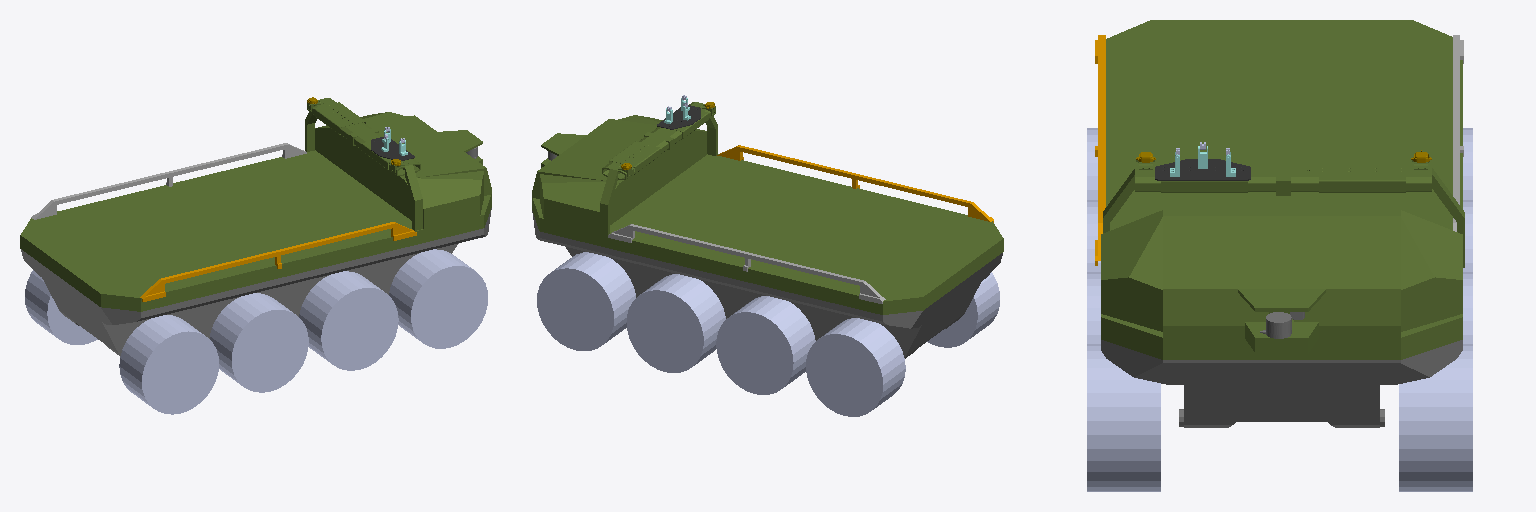
--- Render facts (derived) ---
3 views of the same robot in one strip: view 1: azimuth 30°, elevation 25°; view 2: azimuth 150°, elevation 25°; view 3: azimuth 270°, elevation 25° (orthographic).
Robot: argo — 38 links, 37 joints (8 continuous, 8 prismatic, 21 fixed); root link base_link; default pose: every joint at zero.
Links seen in each view (by area): view 1: J8_top, base_link, Wheel_1, Wheel_3, Wheel_2, Wheel_4, Right_bar, Wheel_5, Bridge, Left_bar; view 2: J8_top, base_link, Wheel_5, Wheel_8, Wheel_6, Wheel_7, Left_bar, Wheel_1, Bridge, Right_bar; view 3: J8_top, base_link, Wheel_4, Wheel_8, Bridge, Bridge_panel_1, Right_bar, Fixposion_base, Left_bar, Bridge_panel_3, Wheel_3, Bridge_panel_2 (+6 smaller).
Link boxes in pixels (box(x1,y1,x2,y2)): J8_top: box(20, 112, 491, 311); base_link: box(21, 208, 491, 355); Wheel_1: box(119, 315, 218, 414); Wheel_3: box(299, 271, 398, 370); Wheel_2: box(210, 293, 308, 392); Wheel_4: box(389, 249, 487, 348); Right_bar: box(140, 222, 416, 301); Wheel_5: box(25, 270, 97, 344); Bridge: box(305, 98, 422, 230); Left_bar: box(31, 143, 306, 219); J8_top: box(532, 115, 1003, 314); base_link: box(532, 211, 1002, 358); Wheel_5: box(806, 318, 905, 416); Wheel_8: box(537, 252, 635, 350); Wheel_6: box(716, 296, 815, 394); Wheel_7: box(626, 274, 725, 372); Left_bar: box(608, 224, 885, 303); Wheel_1: box(927, 272, 999, 347); Bridge: box(600, 102, 717, 234); Right_bar: box(717, 145, 993, 222); J8_top: box(1101, 20, 1462, 359); base_link: box(1101, 340, 1462, 427); Wheel_4: box(1087, 344, 1160, 491); Wheel_8: box(1399, 344, 1472, 491); Bridge: box(1103, 160, 1464, 267); Bridge_panel_1: box(1319, 171, 1405, 192); Right_bar: box(1095, 35, 1105, 265); Fixposion_base: box(1155, 159, 1250, 180); Left_bar: box(1453, 35, 1463, 231); Bridge_panel_3: box(1161, 181, 1247, 192); Wheel_3: box(1087, 272, 1100, 343); Bridge_panel_2: box(1319, 160, 1406, 169).
Size in the robot's own frame: 3.2 by 1.56 by 1.42 metres.
Meshes: 28 distinct files referenced, 23 mesh visuals loaded (21 binary STL); not drawn: 7 (reference not matched to a file when rendering).

robot.urdf — argo:
<?xml version="1.0" ?>
<!-- =================================================================================== -->
<!-- |    This document was autogenerated by xacro from argo_j8.urdf.xacro             | -->
<!-- |    EDITING THIS FILE BY HAND IS NOT RECOMMENDED                                 | -->
<!-- =================================================================================== -->
<robot name="argo">
  <!-- URDF for Argo Robot -->
  <!-- Automatically created by SolidWorks to URDF Exporter -->
  <!-- Exporter Version: 1.6.0-4-g7f85cfe, Build: 1.6.7995.38578 -->
  <!-- IMU sensor configuration for the upper case -->
  <gazebo reference="base_link">
    <sensor name="fixposition_poi_imu" type="imu">
      <always_on>true</always_on>
      <update_rate>200</update_rate>
      <plugin filename="libgazebo_ros_imu_sensor.so" name="fixposition_raw_imu_node">
        <ros>
          <namespace>/fixposition</namespace>
          <remapping>~/out:=raw_imu</remapping>
          <frame_name>FP_VRTK</frame_name>
        </ros>
        <initial_orientation_as_reference>false</initial_orientation_as_reference>
      </plugin>
    </sensor>
  </gazebo>
  <!-- IMU sensor configuration for the upper case -->
  <gazebo reference="base_link">
    <sensor name="fixposition_raw_imu" type="imu">
      <always_on>true</always_on>
      <update_rate>200</update_rate>
      <plugin filename="libgazebo_ros_imu_sensor.so" name="fixposition_poi_imu_node">
        <ros>
          <namespace>/fixposition</namespace>
          <remapping>~/out:=poiimu</remapping>
          <frame_name>FP_POI</frame_name>
        </ros>
        <initial_orientation_as_reference>false</initial_orientation_as_reference>
      </plugin>
    </sensor>
  </gazebo>
  <!--<xacro:include filename="$(find zed_camera_pkg)/urdf/camera_macro.urdf"/>-->
  <!-- Base Link -->
  <link name="base_link">
    <inertial>
      <origin rpy="0 0 0" xyz="-0.042688 0.0075201 0.060368"/>
      <mass value="1000.6"/>
      <inertia ixx="162.15" ixy="-2.4702E-05" ixz="-5.0479" iyy="867.35" iyz="-3.1093E-05" izz="5000.46"/>
    </inertial>
    <visual>
      <origin rpy="0 0 0" xyz="0 0 0"/>
      <geometry>
        <mesh filename="package://my_robot_description/meshes/base_link.STL"/>
      </geometry>
      <material name="">
        <color rgba="0.50196 0.50196 0.50196 1"/>
      </material>
    </visual>
    <collision>
      <origin rpy="0 0 0" xyz="0 0 0"/>
      <geometry>
        <mesh filename="package://my_robot_description/meshes/base_link.STL"/>
      </geometry>
    </collision>
  </link>
  <gazebo reference="base_link">
    <visual>
      <material>
        <ambient>0.3 0.3 0.3 1.0</ambient>
        <diffuse>0.3 0.3 0.3 1.0</diffuse>
        <specular>0.3 0.3 0.3 1.0</specular>
        <emissive>0 0 0 0</emissive>
      </material>
    </visual>
    <preserveFixedJoint>true</preserveFixedJoint>
    <!-- Also preserve joint if has a fixed joint -->
  </gazebo>
  <!-- Dark Grey -->
  <!-- J8 Top Link -->
  <link name="J8_top">
    <inertial>
      <origin rpy="0 0 0" xyz="0.36558 -4.2501E-17 0.10133"/>
      <mass value="639.03"/>
      <inertia ixx="110.75" ixy="3.1317E-14" ixz="-25.628" iyy="522.18" iyz="6.8087E-15" izz="2000.13"/>
    </inertial>
    <visual>
      <origin rpy="0 0 0" xyz="0 0 0"/>
      <geometry>
        <mesh filename="package://my_robot_description/meshes/J8_top.STL"/>
      </geometry>
      <material name="">
        <color rgba="0.4 0.48627 0.24314 1"/>
      </material>
    </visual>
    <collision>
      <origin rpy="0 0 0" xyz="0 0 0"/>
      <geometry>
        <mesh filename="package://my_robot_description/meshes/J8_top.STL"/>
      </geometry>
    </collision>
  </link>
  <gazebo reference="J8_top">
    <visual>
      <material>
        <ambient>0.2941 0.3255 0.1255 1.0</ambient>
        <diffuse>0.2941 0.3255 0.1255 1.0</diffuse>
        <specular>0.2941 0.3255 0.1255 1.0</specular>
        <emissive>0 0 0 0</emissive>
      </material>
    </visual>
    <preserveFixedJoint>true</preserveFixedJoint>
    <!-- Also preserve joint if has a fixed joint -->
  </gazebo>
  <!-- Military Green -->
  <!-- Joint Between Top and Base -->
  <joint name="Top_Base_joint" type="fixed">
    <origin rpy="0 0 0" xyz="-0.0093372 0.0075201 0.265"/>
    <parent link="base_link"/>
    <child link="J8_top"/>
    <axis xyz="0 0 0"/>
  </joint>
  <!-- Bridge Link -->
  <link name="Bridge">
    <inertial>
      <origin rpy="0 0 0" xyz="-4.4409E-16 0.0076101 0.13629"/>
      <mass value="7.6437"/>
      <inertia ixx="1.3715" ixy="4.0621E-14" ixz="-8.0678E-18" iyy="0.083158" iyz="-4.1934E-15" izz="1.3176"/>
    </inertial>
    <visual>
      <origin rpy="0 0 0" xyz="0 0 0"/>
      <geometry>
        <mesh filename="package://my_robot_description/meshes/Bridge.STL"/>
      </geometry>
      <material name="">
        <color rgba="0.4 0.48627 0.24314 1"/>
      </material>
    </visual>
    <collision>
      <origin rpy="0 0 0" xyz="0 0 0"/>
      <geometry>
        <mesh filename="package://my_robot_description/meshes/Bridge.STL"/>
      </geometry>
    </collision>
  </link>
  <gazebo reference="Bridge">
    <visual>
      <material>
        <ambient>0.2941 0.3255 0.1255 1.0</ambient>
        <diffuse>0.2941 0.3255 0.1255 1.0</diffuse>
        <specular>0.2941 0.3255 0.1255 1.0</specular>
        <emissive>0 0 0 0</emissive>
      </material>
    </visual>
    <preserveFixedJoint>true</preserveFixedJoint>
    <!-- Also preserve joint if has a fixed joint -->
  </gazebo>
  <!-- Military Green -->
  <!-- Joint Between Bridge and Top -->
  <joint name="Top_Bridge_joint" type="fixed">
    <origin rpy="0 0 0" xyz="0.82 0 0.31021"/>
    <parent link="J8_top"/>
    <child link="Bridge"/>
    <axis xyz="0 0 0"/>
  </joint>
  <link name="Bridge_panel_1">
    <inertial>
      <origin rpy="0 0 0" xyz="-0.2533 -0.13389 0.21171"/>
      <mass value="0.12712"/>
      <inertia ixx="0.0014232" ixy="-7.4618E-06" ixz="4.8219E-08" iyy="0.0014347" iyz="1.7036E-09" izz="0.00022938"/>
    </inertial>
    <visual>
      <origin rpy="0 0 0" xyz="0 0 0"/>
      <geometry>
        <mesh filename="package://my_robot_description/meshes/Bridge_panel_1.STL"/>
      </geometry>
      <material name="">
        <color rgba="0.4 0.48627 0.24314 1"/>
      </material>
    </visual>
    <collision>
      <origin rpy="0 0 0" xyz="0 0 0"/>
      <geometry>
        <mesh filename="package://my_robot_description/meshes/Bridge_panel_1.STL"/>
      </geometry>
    </collision>
  </link>
  <gazebo reference="Bridge_panel_1">
    <visual>
      <material>
        <ambient>0.2941 0.3255 0.1255 1.0</ambient>
        <diffuse>0.2941 0.3255 0.1255 1.0</diffuse>
        <specular>0.2941 0.3255 0.1255 1.0</specular>
        <emissive>0 0 0 0</emissive>
      </material>
    </visual>
    <preserveFixedJoint>true</preserveFixedJoint>
    <!-- Also preserve joint if has a fixed joint -->
  </gazebo>
  <!-- Military Green -->
  <joint name="Bridge_panel_1_joint" type="fixed">
    <origin rpy="1.5708 0 0" xyz="0.2533 0.14912 0.21171"/>
    <parent link="Bridge"/>
    <child link="Bridge_panel_1"/>
    <axis xyz="0 0 0"/>
  </joint>
  <link name="Bridge_panel_2">
    <inertial>
      <origin rpy="0 0 0" xyz="-0.2533 -0.13389 0.21171"/>
      <mass value="0.12712"/>
      <inertia ixx="0.0014232" ixy="-7.4618E-06" ixz="4.8219E-08" iyy="0.0014347" iyz="1.7036E-09" izz="0.00022938"/>
    </inertial>
    <visual>
      <origin rpy="0 0 0" xyz="0 0 0"/>
      <geometry>
        <mesh filename="package://my_robot_description/meshes/Bridge_panel_2.STL"/>
      </geometry>
      <material name="">
        <color rgba="0.4 0.48627 0.24314 1"/>
      </material>
    </visual>
    <collision>
      <origin rpy="0 0 0" xyz="0 0 0"/>
      <geometry>
        <mesh filename="package://my_robot_description/meshes/Bridge_panel_2.STL"/>
      </geometry>
    </collision>
  </link>
  <gazebo reference="Bridge_panel_2">
    <visual>
      <material>
        <ambient>0.2941 0.3255 0.1255 1.0</ambient>
        <diffuse>0.2941 0.3255 0.1255 1.0</diffuse>
        <specular>0.2941 0.3255 0.1255 1.0</specular>
        <emissive>0 0 0 0</emissive>
      </material>
    </visual>
    <preserveFixedJoint>true</preserveFixedJoint>
    <!-- Also preserve joint if has a fixed joint -->
  </gazebo>
  <!-- Military Green -->
  <joint name="Bridge_panel_2_joint" type="fixed">
    <origin rpy="1.5708 0 -3.1416" xyz="-0.2533 0.15172 0.21171"/>
    <parent link="Bridge"/>
    <child link="Bridge_panel_2"/>
    <axis xyz="0 0 0"/>
  </joint>
  <link name="Bridge_panel_3">
    <inertial>
      <origin rpy="0 0 0" xyz="-0.2533 -0.13389 0.21171"/>
      <mass value="0.12712"/>
      <inertia ixx="0.0014232" ixy="-7.4618E-06" ixz="4.8219E-08" iyy="0.0014347" iyz="1.7036E-09" izz="0.00022938"/>
    </inertial>
    <visual>
      <origin rpy="0 0 0" xyz="0 0 0"/>
      <geometry>
        <mesh filename="package://my_robot_description/meshes/Bridge_panel_3.STL"/>
      </geometry>
      <material name="">
        <color rgba="0.4 0.48627 0.24314 1"/>
      </material>
    </visual>
    <collision>
      <origin rpy="0 0 0" xyz="0 0 0"/>
      <geometry>
        <mesh filename="package://my_robot_description/meshes/Bridge_panel_3.STL"/>
      </geometry>
    </collision>
  </link>
  <gazebo reference="Bridge_panel_3">
    <visual>
      <material>
        <ambient>0.2941 0.3255 0.1255 1.0</ambient>
        <diffuse>0.2941 0.3255 0.1255 1.0</diffuse>
        <specular>0.2941 0.3255 0.1255 1.0</specular>
        <emissive>0 0 0 0</emissive>
      </material>
    </visual>
    <preserveFixedJoint>true</preserveFixedJoint>
    <!-- Also preserve joint if has a fixed joint -->
  </gazebo>
  <!-- Military Green -->
  <joint name="Bridge_panel_3_joint" type="fixed">
    <origin rpy="1.5708 0 0" xyz="0.2533 -0.1365 0.21171"/>
    <parent link="Bridge"/>
    <child link="Bridge_panel_3"/>
    <axis xyz="0 0 0"/>
  </joint>
  <link name="Bridge_panel_4">
    <inertial>
      <origin rpy="0 0 0" xyz="-0.2533 -0.13389 0.21171"/>
      <mass value="0.12712"/>
      <inertia ixx="0.0014232" ixy="-7.4618E-06" ixz="4.8219E-08" iyy="0.0014347" iyz="1.7036E-09" izz="0.00022938"/>
    </inertial>
    <visual>
      <origin rpy="0 0 0" xyz="0 0 0"/>
      <geometry>
        <mesh filename="package://my_robot_description/meshes/Bridge_panel_4.STL"/>
      </geometry>
      <material name="">
        <color rgba="0.4 0.48627 0.24314 1"/>
      </material>
    </visual>
    <collision>
      <origin rpy="0 0 0" xyz="0 0 0"/>
      <geometry>
        <mesh filename="package://my_robot_description/meshes/Bridge_panel_4.STL"/>
      </geometry>
    </collision>
  </link>
  <gazebo reference="Bridge_panel_4">
    <visual>
      <material>
        <ambient>0.2941 0.3255 0.1255 1.0</ambient>
        <diffuse>0.2941 0.3255 0.1255 1.0</diffuse>
        <specular>0.2941 0.3255 0.1255 1.0</specular>
        <emissive>0 0 0 0</emissive>
      </material>
    </visual>
    <preserveFixedJoint>true</preserveFixedJoint>
    <!-- Also preserve joint if has a fixed joint -->
  </gazebo>
  <!-- Military Green -->
  <joint name="Bridge_panel_4_joint" type="fixed">
    <origin rpy="1.5708 0 -3.1416" xyz="-0.2533 -0.13389 0.21171"/>
    <parent link="Bridge"/>
    <child link="Bridge_panel_4"/>
    <axis xyz="0 0 0"/>
  </joint>
  <link name="Left_bar">
    <inertial>
      <origin rpy="0 0 0" xyz="0.45 0.073187 0.020151"/>
      <mass value="2.4389"/>
      <inertia ixx="0.002886" ixy="0" ixz="0" iyy="1.1032" iyz="-0.00029921" izz="1.1009"/>
    </inertial>
    <visual>
      <origin rpy="0 0 0" xyz="0 0 0"/>
      <geometry>
        <mesh filename="package://my_robot_description/meshes/Left_bar.STL"/>
      </geometry>
      <!-- The color is defined in the main file or through a gazebo tag -->
    </visual>
    <collision>
      <origin rpy="0 0 0" xyz="0 0 0"/>
      <geometry>
        <mesh filename="package://my_robot_description/meshes/Left_bar.STL"/>
      </geometry>
    </collision>
  </link>
  <gazebo reference="Left_bar">
    <visual>
      <material>
        <ambient>0.2941 0.3255 0.1255 1.0</ambient>
        <diffuse>0.2941 0.3255 0.1255 1.0</diffuse>
        <specular>0.2941 0.3255 0.1255 1.0</specular>
        <emissive>0 0 0 0</emissive>
      </material>
    </visual>
    <preserveFixedJoint>true</preserveFixedJoint>
    <!-- Also preserve joint if has a fixed joint -->
  </gazebo>
  <!-- Military Green -->
  <joint name="Left_bar_joint" type="fixed">
    <origin rpy="3.1416 0 0" xyz="-0.7165 0.7825 0.185"/>
    <parent link="J8_top"/>
    <child link="Left_bar"/>
    <axis xyz="0 0 0"/>
  </joint>
  <link name="Right_bar">
    <inertial>
      <origin rpy="0 0 0" xyz="0.45 0.073187 0.020151"/>
      <mass value="2.4389"/>
      <inertia ixx="0.002886" ixy="0" ixz="0" iyy="1.1032" iyz="-0.00029921" izz="1.1009"/>
    </inertial>
    <visual>
      <origin rpy="0 0 0" xyz="0 0 0"/>
      <geometry>
        <mesh filename="package://my_robot_description/meshes/Right_bar.STL"/>
      </geometry>
      <!-- The color is defined in the main file or through a gazebo tag -->
    </visual>
    <collision>
      <origin rpy="0 0 0" xyz="0 0 0"/>
      <geometry>
        <mesh filename="package://my_robot_description/meshes/Right_bar.STL"/>
      </geometry>
    </collision>
  </link>
  <gazebo reference="Right_bar">
    <visual>
      <material>
        <ambient>0.2941 0.3255 0.1255 1.0</ambient>
        <diffuse>0.2941 0.3255 0.1255 1.0</diffuse>
        <specular>0.2941 0.3255 0.1255 1.0</specular>
        <emissive>0 0 0 0</emissive>
      </material>
    </visual>
    <preserveFixedJoint>true</preserveFixedJoint>
    <!-- Also preserve joint if has a fixed joint -->
  </gazebo>
  <!-- Military Green -->
  <joint name="Right_bar_joint" type="fixed">
    <origin rpy="3.1416 0 0" xyz="-0.7165 -0.7125 0.185"/>
    <parent link="J8_top"/>
    <child link="Right_bar"/>
    <axis xyz="0 0 0"/>
  </joint>
  <link name="Left_gps_holder">
    <inertial>
      <origin rpy="0 0 0" xyz="0.028467 0.0040708 0.064445"/>
      <mass value="0.085883"/>
      <inertia ixx="4.8874E-05" ixy="1.086E-09" ixz="1.7125E-08" iyy="6.5272E-05" iyz="-6.869E-06" izz="3.5166E-05"/>
    </inertial>
    <visual>
      <origin rpy="0 0 0" xyz="0 0 0"/>
      <geometry>
        <mesh filename="package://my_robot_description/meshes/Right_gps_holder.STL"/>
      </geometry>
      <material name="">
        <color rgba="0.4 0.48627 0.24314 1"/>
      </material>
    </visual>
    <collision>
      <origin rpy="0 0 0" xyz="0 0 0"/>
      <geometry>
        <mesh filename="package://my_robot_description/meshes/Right_gps_holder.STL"/>
      </geometry>
    </collision>
  </link>
  <gazebo reference="Left_gps_holder">
    <visual>
      <material>
        <ambient>0.2941 0.3255 0.1255 1.0</ambient>
        <diffuse>0.2941 0.3255 0.1255 1.0</diffuse>
        <specular>0.2941 0.3255 0.1255 1.0</specular>
        <emissive>0 0 0 0</emissive>
      </material>
    </visual>
    <preserveFixedJoint>true</preserveFixedJoint>
    <!-- Also preserve joint if has a fixed joint -->
  </gazebo>
  <!-- Military Green -->
  <joint name="Left_gps_holder_joint" type="fixed">
    <origin rpy="1.5708 0 1.5708" xyz="-0.007 0.601 0.21421"/>
    <parent link="Bridge"/>
    <child link="Left_gps_holder"/>
    <axis xyz="0 0 0"/>
  </joint>
  <link name="Right_gps_holder">
    <inertial>
      <origin rpy="0 0 0" xyz="0.028467 0.0040708 0.064445"/>
      <mass value="0.085883"/>
      <inertia ixx="4.8874E-05" ixy="1.086E-09" ixz="1.7125E-08" iyy="6.5272E-05" iyz="-6.869E-06" izz="3.5166E-05"/>
    </inertial>
    <visual>
      <origin rpy="0 0 0" xyz="0 0 0"/>
      <geometry>
        <mesh filename="package://my_robot_description/meshes/Right_gps_holder.STL"/>
      </geometry>
      <material name="">
        <color rgba="0.4 0.48627 0.24314 1"/>
      </material>
    </visual>
    <collision>
      <origin rpy="0 0 0" xyz="0 0 0"/>
      <geometry>
        <mesh filename="package://my_robot_description/meshes/Right_gps_holder.STL"/>
      </geometry>
    </collision>
  </link>
  <gazebo reference="Right_gps_holder">
    <visual>
      <material>
        <ambient>0.2941 0.3255 0.1255 1.0</ambient>
        <diffuse>0.2941 0.3255 0.1255 1.0</diffuse>
        <specular>0.2941 0.3255 0.1255 1.0</specular>
        <emissive>0 0 0 0</emissive>
      </material>
    </visual>
    <preserveFixedJoint>true</preserveFixedJoint>
    <!-- Also preserve joint if has a fixed joint -->
  </gazebo>
  <!-- Military Green -->
  <joint name="Right_gps_holder_joint" type="fixed">
    <origin rpy="1.5708 0 1.5708" xyz="-0.007 -0.51339 0.21421"/>
    <parent link="Bridge"/>
    <child link="Right_gps_holder"/>
    <axis xyz="0 0 0"/>
  </joint>
  <link name="Left_gps">
    <inertial>
      <origin rpy="0 0 0" xyz="0.0001309 0.0375 0.010255"/>
      <mass value="0.07021"/>
      <inertia ixx="2.1784E-05" ixy="2.6915E-11" ixz="-1.5698E-09" iyy="2.0279E-05" iyz="5.606E-12" izz="3.6479E-05"/>
    </inertial>
    <visual>
      <origin rpy="0 0 0" xyz="0 0 0"/>
      <geometry>
        <mesh filename="package://my_robot_description/meshes/Left_gps.STL"/>
      </geometry>
      <material name="">
        <color rgba="0.64706 0.51373 0 1"/>
      </material>
    </visual>
    <collision>
      <origin rpy="0 0 0" xyz="0 0 0"/>
      <geometry>
        <mesh filename="package://my_robot_description/meshes/Left_gps.STL"/>
      </geometry>
    </collision>
  </link>
  <joint name="Left_gps_joint" type="fixed">
    <origin rpy="1.5708 1.5708 3.141592653589793" xyz="-0.066 0.012 -0.066"/>
    <parent link="Left_gps_holder"/>
    <child link="Left_gps"/>
    <axis xyz="0 0 0"/>
  </joint>
  <link name="Right_gps">
    <inertial>
      <origin rpy="0 0 0" xyz="0.0001309 0.0375 0.010255"/>
      <mass value="0.07021"/>
      <inertia ixx="2.1784E-05" ixy="2.6915E-11" ixz="-1.5698E-09" iyy="2.0279E-05" iyz="5.606E-12" izz="3.6479E-05"/>
    </inertial>
    <visual>
      <origin rpy="0 0 0" xyz="0 0 0"/>
      <geometry>
        <mesh filename="package://my_robot_description/meshes/Left_gps.STL"/>
      </geometry>
      <material name="">
        <color rgba="0.64706 0.51373 0 1"/>
      </material>
    </visual>
    <collision>
      <origin rpy="0 0 0" xyz="0 0 0"/>
      <geometry>
        <mesh filename="package://my_robot_description/meshes/Left_gps.STL"/>
      </geometry>
    </collision>
  </link>
  <joint name="Right_gps_joint" type="fixed">
    <origin rpy="1.5708 1.5708 3.141592653589793" xyz="-0.066 0.012 -0.066"/>
    <parent link="Right_gps_holder"/>
    <child link="Right_gps"/>
    <axis xyz="0 0 0"/>
  </joint>
  <link name="Velodyne_link">
    <inertial>
      <origin rpy="0 0 0" xyz="1.6279 -0.0022244 0.17"/>
      <mass value="0.61592"/>
      <inertia ixx="0.00069055" ixy="0" ixz="0" iyy="0.0006838" iyz="0" izz="0.00083911"/>
    </inertial>
    <visual>
      <origin rpy="0 0 0" xyz="0 0 0"/>
      <geometry>
        <mesh filename="package://my_robot_description/meshes/Velodyne.STL"/>
      </geometry>
      <!-- Default color for all lidars -->
      <material name="">
        <color rgba="0.5 0.5 0.5 1"/>
      </material>
    </visual>
    <collision>
      <origin rpy="0 0 0" xyz="0 0 0"/>
      <geometry>
        <mesh filename="package://my_robot_description/meshes/Velodyne.STL"/>
      </geometry>
    </collision>
  </link>
  <joint name="Velodyne_joint" type="fixed">
    <origin rpy="0 0 0" xyz="1.6279 -0.0022244 0.17"/>
    <parent link="J8_top"/>
    <child link="Velodyne_link"/>
    <axis xyz="0 0 0"/>
  </joint>
  <gazebo reference="Velodyne_link">
    <visual>
      <material>
        <ambient>0.8 0.8 0.8 1.0</ambient>
        <diffuse>0.8 0.8 0.8 1.0</diffuse>
        <specular>0.8 0.8 0.8 1.0</specular>
        <emissive>0 0 0 0</emissive>
      </material>
    </visual>
    <preserveFixedJoint>true</preserveFixedJoint>
    <!-- Also preserve joint if has a fixed joint -->
  </gazebo>
  <!-- Light Grey -->
  <link name="Sick_link">
    <inertial>
      <origin rpy="0 0 0" xyz="1.50 0.02 0.27732"/>
      <mass value="0.22144"/>
      <inertia ixx="0.00069055" ixy="0" ixz="0" iyy="0.0006838" iyz="0" izz="0.00083911"/>
    </inertial>
    <visual>
      <origin rpy="0 0 0" xyz="0 0 0"/>
      <geometry>
        <mesh filename="package://my_robot_description/meshes/Sick.STL"/>
      </geometry>
      <!-- Default color for all lidars -->
      <material name="">
        <color rgba="0.5 0.5 0.5 1"/>
      </material>
    </visual>
    <collision>
      <origin rpy="0 0 0" xyz="0 0 0"/>
      <geometry>
        <mesh filename="package://my_robot_description/meshes/Sick.STL"/>
      </geometry>
    </collision>
  </link>
  <joint name="Sick_joint" type="fixed">
    <origin rpy="0 0 0" xyz="1.50 0.02 0.27732"/>
    <parent link="J8_top"/>
    <child link="Sick_link"/>
    <axis xyz="0 0 0"/>
  </joint>
  <gazebo reference="Sick_link">
    <visual>
      <material>
        <ambient>0.8 0.8 0.8 1.0</ambient>
        <diffuse>0.8 0.8 0.8 1.0</diffuse>
        <specular>0.8 0.8 0.8 1.0</specular>
        <emissive>0 0 0 0</emissive>
      </material>
    </visual>
    <preserveFixedJoint>true</preserveFixedJoint>
    <!-- Also preserve joint if has a fixed joint -->
  </gazebo>
  <!-- Light Grey -->
  <!-- Front and Back Camera 
  <xacro:camera name="Back_camera" parent="Bridge" origin_xyz="-0.11 0 0.18021" origin_rpy="0 1.5708 0" ros_topic="/back_camera"/>
  <xacro:camera name="Front_camera" parent="Bridge" origin_xyz="0.11 0 0.18021" origin_rpy="0 1.5708 0" ros_topic="/front_camera"/>-->
  <!-- Zedd Camera 
  <xacro:zed_camera name="zed_camera" parent="Bridge" origin_xyz="0.11 0 0.23" origin_rpy="0 ${M_PI} 0" ros_topic="/zedd_camera"/>-->
  <!-- Suspension Link -->
  <link name="Suspension_1">
    <inertial>
      <origin rpy="0 0 0" xyz="4.4409E-16 -0.005 2.2204E-16"/>
      <mass value="10.0"/>
      <inertia ixx="5.0" ixy="8.0515E-20" ixz="0" iyy="5.0" iyz="1.9328E-19" izz="5.0"/>
    </inertial>
    <visual>
      <origin rpy="0 0 0" xyz="0 0 0"/>
      <geometry>
        <mesh filename="package://my_robot_description/meshes/Suspension_1.STL"/>
      </geometry>
      <material name="">
        <color rgba="0.79216 0.81961 0.93333 1"/>
      </material>
    </visual>
    <collision>
      <origin rpy="0 0 0" xyz="0 0 0"/>
      <geometry>
        <mesh filename="package://my_robot_description/meshes/Suspension_1.STL"/>
      </geometry>
    </collision>
  </link>
  <!-- Prismatic Joint (Base Link to Suspension) -->
  <joint name="base_Suspension_1_joint" type="prismatic">
    <origin rpy=" 0 0 0 " xyz="-1.0593 -0.45 -0.225"/>
    <parent link="base_link"/>
    <child link="Suspension_1"/>
    <axis xyz="0 0 1"/>
    <limit effort="1000000000000.0" lower="-10.0" upper="10.0" velocity="0.0"/>
    <dynamics damping="100.0" friction="1000000000000.0"/>
  </joint>
  <gazebo reference="base_Suspension_1_joint">
    <implicitSpringDamper>true</implicitSpringDamper>
    <springStiffness>[number redacted]</springStiffness>
    <springReference>0.0</springReference>
  </gazebo>
  <link name="Wheel_1">
    <!-- Inertial, visual, and collision properties -->
    <inertial>
      <origin rpy="0 0 0" xyz="0 0.17637 0"/>
      <mass value="5.205463824313"/>
      <inertia ixx="3.66317923670982" ixy="0" ixz="0" iyy="3.66317923670982" iyz="0" izz="5.43484629444829"/>
    </inertial>
    <visual>
      <origin rpy="1.5707963267948966 0 0" xyz="0 0 0"/>
      <geometry>
        <cylinder length="0.30" radius="0.298"/>
      </geometry>
      <!-- <geometry> <mesh filename="$(find j8_xacro_model)/meshes/${name}.STL"/>
        </geometry>-->
      <material name="">
        <color rgba="0.792156862745098 0.819607843137255 0.933333333333333 1"/>
      </material>
    </visual>
    <collision>
      <origin rpy="1.5707963267948966 0 0" xyz="0 0 0"/>
      <geometry>
        <cylinder length="0.30" radius="0.298"/>
      </geometry>
      <!-- <geometry>
          <mesh filename="$(find j8_xacro_model)/meshes/${name}.STL"/>
        </geometry>-->
    </collision>
  </link>
  <gazebo reference="Wheel_1">
    <visual>
      <material>
        <ambient>0.0 0.0 0.0 1.0</ambient>
        <diffuse>0.0 0.0 0.0 1.0</diffuse>
        <specular>0.0 0.0 0.0 1.0</specular>
        <emissive>0 0 0 0</emissive>
      </material>
    </visual>
    <preserveFixedJoint>true</preserveFixedJoint>
    <!-- Also preserve joint if has a fixed joint -->
  </gazebo>
  <gazebo reference="Wheel_1">
    <kp>100000000000000.0</kp>
    <kd>0.8</kd>
    <mu>0.25</mu>
    <mu2>0.25</mu2>
    <fdir1> 1 0 0</fdir1>
  </gazebo>
  <joint name="Suspension_1_Wheel_1_joint" type="continuous">
    <origin rpy="0 0 0" xyz="0.0 -0.18 0.0"/>
    <parent link="Suspension_1"/>
    <child link="Wheel_1"/>
    <axis xyz="0 1 0"/>
  </joint>
  <gazebo reference="Suspension_1_Wheel_1_joint">

    </gazebo>
  <!-- Suspension Link -->
  <link name="Suspension_2">
    <inertial>
      <origin rpy="0 0 0" xyz="4.4409E-16 -0.005 2.2204E-16"/>
      <mass value="10.0"/>
      <inertia ixx="5.0" ixy="8.0515E-20" ixz="0" iyy="5.0" iyz="1.9328E-19" izz="5.0"/>
    </inertial>
    <visual>
      <origin rpy="0 0 0" xyz="0 0 0"/>
      <geometry>
        <mesh filename="package://my_robot_description/meshes/Suspension_2.STL"/>
      </geometry>
      <material name="">
        <color rgba="0.79216 0.81961 0.93333 1"/>
      </material>
    </visual>
    <collision>
      <origin rpy="0 0 0" xyz="0 0 0"/>
      <geometry>
        <mesh filename="package://my_robot_description/meshes/Suspension_2.STL"/>
      </geometry>
    </collision>
  </link>
  <!-- Prismatic Joint (Base Link to Suspension) -->
  <joint name="base_Suspension_2_joint" type="prismatic">
    <origin rpy=" 0 0 0 " xyz="-0.36934 -0.45 -0.225"/>
    <parent link="base_link"/>
    <child link="Suspension_2"/>
    <axis xyz="0 0 1"/>
    <limit effort="1000000000000.0" lower="-10.0" upper="10.0" velocity="0.0"/>
    <dynamics damping="100.0" friction="1000000000000.0"/>
  </joint>
  <gazebo reference="base_Suspension_2_joint">
    <implicitSpringDamper>true</implicitSpringDamper>
    <springStiffness>[number redacted]</springStiffness>
    <springReference>0.0</springReference>
  </gazebo>
  <link name="Wheel_2">
    <!-- Inertial, visual, and collision properties -->
    <inertial>
      <origin rpy="0 0 0" xyz="0 0.17637 0"/>
      <mass value="5.205463824313"/>
      <inertia ixx="3.66317923670982" ixy="0" ixz="0" iyy="3.66317923670982" iyz="0" izz="5.43484629444829"/>
    </inertial>
    <visual>
      <origin rpy="1.5707963267948966 0 0" xyz="0 0 0"/>
      <geometry>
        <cylinder length="0.30" radius="0.298"/>
      </geometry>
      <!-- <geometry> <mesh filename="$(find j8_xacro_model)/meshes/${name}.STL"/>
        </geometry>-->
      <material name="">
        <color rgba="0.792156862745098 0.819607843137255 0.933333333333333 1"/>
      </material>
    </visual>
    <collision>
      <origin rpy="1.5707963267948966 0 0" xyz="0 0 0"/>
      <geometry>
        <cylinder length="0.30" radius="0.298"/>
      </geometry>
      <!-- <geometry>
          <mesh filename="$(find j8_xacro_model)/meshes/${name}.STL"/>
        </geometry>-->
    </collision>
  </link>
  <gazebo reference="Wheel_2">
    <visual>
      <material>
        <ambient>0.0 0.0 0.0 1.0</ambient>
        <diffuse>0.0 0.0 0.0 1.0</diffuse>
        <specular>0.0 0.0 0.0 1.0</specular>
        <emissive>0 0 0 0</emissive>
      </material>
    </visual>
    <preserveFixedJoint>true</preserveFixedJoint>
    <!-- Also preserve joint if has a fixed joint -->
  </gazebo>
  <gazebo reference="Wheel_2">
    <kp>100000000000000.0</kp>
    <kd>0.8</kd>
    <mu>0.25</mu>
    <mu2>0.25</mu2>
    <fdir1> 1 0 0</fdir1>
  </gazebo>
  <joint name="Suspension_2_Wheel_2_joint" type="continuous">
    <origin rpy="0 0 0" xyz="0.0 -0.18 0.0"/>
    <parent link="Suspension_2"/>
    <child link="Wheel_2"/>
    <axis xyz="0 1 0"/>
  </joint>
  <gazebo reference="Suspension_2_Wheel_2_joint">

    </gazebo>
  <!-- Suspension Link -->
  <link name="Suspension_3">
    <inertial>
      <origin rpy="0 0 0" xyz="4.4409E-16 -0.005 2.2204E-16"/>
      <mass value="10.0"/>
      <inertia ixx="5.0" ixy="8.0515E-20" ixz="0" iyy="5.0" iyz="1.9328E-19" izz="5.0"/>
    </inertial>
    <visual>
      <origin rpy="0 0 0" xyz="0 0 0"/>
      <geometry>
        <mesh filename="package://my_robot_description/meshes/Suspension_3.STL"/>
      </geometry>
      <material name="">
        <color rgba="0.79216 0.81961 0.93333 1"/>
      </material>
    </visual>
    <collision>
      <origin rpy="0 0 0" xyz="0 0 0"/>
      <geometry>
        <mesh filename="package://my_robot_description/meshes/Suspension_3.STL"/>
      </geometry>
    </collision>
  </link>
  <!-- Prismatic Joint (Base Link to Suspension) -->
  <joint name="base_Suspension_3_joint" type="prismatic">
    <origin rpy=" 0 0 0 " xyz="0.32066 -0.45 -0.225"/>
    <parent link="base_link"/>
    <child link="Suspension_3"/>
    <axis xyz="0 0 1"/>
    <limit effort="1000000000000.0" lower="-10.0" upper="10.0" velocity="0.0"/>
    <dynamics damping="100.0" friction="1000000000000.0"/>
  </joint>
  <gazebo reference="base_Suspension_3_joint">
    <implicitSpringDamper>true</implicitSpringDamper>
    <springStiffness>[number redacted]</springStiffness>
    <springReference>0.0</springReference>
  </gazebo>
  <link name="Wheel_3">
    <!-- Inertial, visual, and collision properties -->
    <inertial>
      <origin rpy="0 0 0" xyz="0 0.17637 0"/>
      <mass value="5.205463824313"/>
      <inertia ixx="3.66317923670982" ixy="0" ixz="0" iyy="3.66317923670982" iyz="0" izz="5.43484629444829"/>
    </inertial>
    <visual>
      <origin rpy="1.5707963267948966 0 0" xyz="0 0 0"/>
      <geometry>
        <cylinder length="0.30" radius="0.298"/>
      </geometry>
      <!-- <geometry> <mesh filename="$(find j8_xacro_model)/meshes/${name}.STL"/>
        </geometry>-->
      <material name="">
        <color rgba="0.792156862745098 0.819607843137255 0.933333333333333 1"/>
      </material>
    </visual>
    <collision>
      <origin rpy="1.5707963267948966 0 0" xyz="0 0 0"/>
      <geometry>
        <cylinder length="0.30" radius="0.298"/>
      </geometry>
      <!-- <geometry>
          <mesh filename="$(find j8_xacro_model)/meshes/${name}.STL"/>
        </geometry>-->
    </collision>
  </link>
  <gazebo reference="Wheel_3">
    <visual>
      <material>
        <ambient>0.0 0.0 0.0 1.0</ambient>
        <diffuse>0.0 0.0 0.0 1.0</diffuse>
        <specular>0.0 0.0 0.0 1.0</specular>
        <emissive>0 0 0 0</emissive>
      </material>
    </visual>
    <preserveFixedJoint>true</preserveFixedJoint>
    <!-- Also preserve joint if has a fixed joint -->
  </gazebo>
  <gazebo reference="Wheel_3">
    <kp>100000000000000.0</kp>
    <kd>0.8</kd>
    <mu>0.25</mu>
    <mu2>0.25</mu2>
    <fdir1> 1 0 0</fdir1>
  </gazebo>
  <joint name="Suspension_3_Wheel_3_joint" type="continuous">
    <origin rpy="0 0 0" xyz="0.0 -0.18 0.0"/>
    <parent link="Suspension_3"/>
    <child link="Wheel_3"/>
    <axis xyz="0 1 0"/>
  </joint>
  <gazebo reference="Suspension_3_Wheel_3_joint">

    </gazebo>
  <!-- Suspension Link -->
  <link name="Suspension_4">
    <inertial>
      <origin rpy="0 0 0" xyz="4.4409E-16 -0.005 2.2204E-16"/>
      <mass value="10.0"/>
      <inertia ixx="5.0" ixy="8.0515E-20" ixz="0" iyy="5.0" iyz="1.9328E-19" izz="5.0"/>
    </inertial>
    <visual>
      <origin rpy="0 0 0" xyz="0 0 0"/>
      <geometry>
        <mesh filename="package://my_robot_description/meshes/Suspension_4.STL"/>
      </geometry>
      <material name="">
        <color rgba="0.79216 0.81961 0.93333 1"/>
      </material>
    </visual>
    <collision>
      <origin rpy="0 0 0" xyz="0 0 0"/>
      <geometry>
        <mesh filename="package://my_robot_description/meshes/Suspension_4.STL"/>
      </geometry>
    </collision>
  </link>
  <!-- Prismatic Joint (Base Link to Suspension) -->
  <joint name="base_Suspension_4_joint" type="prismatic">
    <origin rpy=" 0 0 0 " xyz="1.0107 -0.45 -0.225"/>
    <parent link="base_link"/>
    <child link="Suspension_4"/>
    <axis xyz="0 0 1"/>
    <limit effort="1000000000000.0" lower="-10.0" upper="10.0" velocity="0.0"/>
    <dynamics damping="100.0" friction="1000000000000.0"/>
  </joint>
  <gazebo reference="base_Suspension_4_joint">
    <implicitSpringDamper>true</implicitSpringDamper>
    <springStiffness>[number redacted]</springStiffness>
    <springReference>0.0</springReference>
  </gazebo>
  <link name="Wheel_4">
    <!-- Inertial, visual, and collision properties -->
    <inertial>
      <origin rpy="0 0 0" xyz="0 0.17637 0"/>
      <mass value="5.205463824313"/>
      <inertia ixx="3.66317923670982" ixy="0" ixz="0" iyy="3.66317923670982" iyz="0" izz="5.43484629444829"/>
    </inertial>
    <visual>
      <origin rpy="1.5707963267948966 0 0" xyz="0 0 0"/>
      <geometry>
        <cylinder length="0.30" radius="0.298"/>
      </geometry>
      <!-- <geometry> <mesh filename="$(find j8_xacro_model)/meshes/${name}.STL"/>
        </geometry>-->
      <material name="">
        <color rgba="0.792156862745098 0.819607843137255 0.933333333333333 1"/>
      </material>
    </visual>
    <collision>
      <origin rpy="1.5707963267948966 0 0" xyz="0 0 0"/>
      <geometry>
        <cylinder length="0.30" radius="0.298"/>
      </geometry>
      <!-- <geometry>
          <mesh filename="$(find j8_xacro_model)/meshes/${name}.STL"/>
        </geometry>-->
    </collision>
  </link>
  <gazebo reference="Wheel_4">
    <visual>
      <material>
        <ambient>0.0 0.0 0.0 1.0</ambient>
        <diffuse>0.0 0.0 0.0 1.0</diffuse>
        <specular>0.0 0.0 0.0 1.0</specular>
        <emissive>0 0 0 0</emissive>
      </material>
    </visual>
    <preserveFixedJoint>true</preserveFixedJoint>
    <!-- Also preserve joint if has a fixed joint -->
  </gazebo>
  <gazebo reference="Wheel_4">
    <kp>100000000000000.0</kp>
    <kd>0.8</kd>
    <mu>0.25</mu>
    <mu2>0.25</mu2>
    <fdir1> 1 0 0</fdir1>
  </gazebo>
  <joint name="Suspension_4_Wheel_4_joint" type="continuous">
    <origin rpy="0 0 0" xyz="0.0 -0.18 0.0"/>
    <parent link="Suspension_4"/>
    <child link="Wheel_4"/>
    <axis xyz="0 1 0"/>
  </joint>
  <gazebo reference="Suspension_4_Wheel_4_joint">

    </gazebo>
  <!-- Suspension Link -->
  <link name="Suspension_5">
    <inertial>
      <origin rpy="0 0 0" xyz="4.4409E-16 -0.005 2.2204E-16"/>
      <mass value="10.0"/>
      <inertia ixx="5.0" ixy="8.0515E-20" ixz="0" iyy="5.0" iyz="1.9328E-19" izz="5.0"/>
    </inertial>
    <visual>
      <origin rpy="0 0 0" xyz="0 0 0"/>
      <geometry>
        <mesh filename="package://my_robot_description/meshes/Suspension_5.STL"/>
      </geometry>
      <material name="">
        <color rgba="0.79216 0.81961 0.93333 1"/>
      </material>
    </visual>
    <collision>
      <origin rpy="0 0 0" xyz="0 0 0"/>
      <geometry>
        <mesh filename="package://my_robot_description/meshes/Suspension_5.STL"/>
      </geometry>
    </collision>
  </link>
  <!-- Prismatic Joint (Base Link to Suspension) -->
  <joint name="base_Suspension_5_joint" type="prismatic">
    <origin rpy=" 0 0 0 " xyz="-1.0593 0.45 -0.225"/>
    <parent link="base_link"/>
    <child link="Suspension_5"/>
    <axis xyz="0 0 1"/>
    <limit effort="1000000000000.0" lower="-10.0" upper="10.0" velocity="0.0"/>
    <dynamics damping="100.0" friction="1000000000000.0"/>
  </joint>
  <gazebo reference="base_Suspension_5_joint">
    <implicitSpringDamper>true</implicitSpringDamper>
    <springStiffness>[number redacted]</springStiffness>
    <springReference>0.0</springReference>
  </gazebo>
  <link name="Wheel_5">
    <!-- Inertial, visual, and collision properties -->
    <inertial>
      <origin rpy="0 0 0" xyz="0 0.17637 0"/>
      <mass value="5.205463824313"/>
      <inertia ixx="3.66317923670982" ixy="0" ixz="0" iyy="3.66317923670982" iyz="0" izz="5.43484629444829"/>
    </inertial>
    <visual>
      <origin rpy="1.5707963267948966 0 0" xyz="0 0 0"/>
      <geometry>
        <cylinder length="0.30" radius="0.298"/>
      </geometry>
      <!-- <geometry> <mesh filename="$(find j8_xacro_model)/meshes/${name}.STL"/>
        </geometry>-->
      <material name="">
        <color rgba="0.792156862745098 0.819607843137255 0.933333333333333 1"/>
      </material>
    </visual>
    <collision>
      <origin rpy="1.5707963267948966 0 0" xyz="0 0 0"/>
      <geometry>
        <cylinder length="0.30" radius="0.298"/>
      </geometry>
      <!-- <geometry>
          <mesh filename="$(find j8_xacro_model)/meshes/${name}.STL"/>
        </geometry>-->
    </collision>
  </link>
  <gazebo reference="Wheel_5">
    <visual>
      <material>
        <ambient>0.0 0.0 0.0 1.0</ambient>
        <diffuse>0.0 0.0 0.0 1.0</diffuse>
        <specular>0.0 0.0 0.0 1.0</specular>
        <emissive>0 0 0 0</emissive>
      </material>
    </visual>
    <preserveFixedJoint>true</preserveFixedJoint>
    <!-- Also preserve joint if has a fixed joint -->
  </gazebo>
  <gazebo reference="Wheel_5">
    <kp>100000000000000.0</kp>
    <kd>0.8</kd>
    <mu>0.25</mu>
    <mu2>0.25</mu2>
    <fdir1> 1 0 0</fdir1>
  </gazebo>
  <joint name="Suspension_5_Wheel_5_joint" type="continuous">
    <origin rpy="0 0 0" xyz="0.0 0.18 0.0"/>
    <parent link="Suspension_5"/>
    <child link="Wheel_5"/>
    <axis xyz="0 1 0"/>
  </joint>
  <gazebo reference="Suspension_5_Wheel_5_joint">

    </gazebo>
  <!-- Suspension Link -->
  <link name="Suspension_6">
    <inertial>
      <origin rpy="0 0 0" xyz="4.4409E-16 -0.005 2.2204E-16"/>
      <mass value="10.0"/>
      <inertia ixx="5.0" ixy="8.0515E-20" ixz="0" iyy="5.0" iyz="1.9328E-19" izz="5.0"/>
    </inertial>
    <visual>
      <origin rpy="0 0 0" xyz="0 0 0"/>
      <geometry>
        <mesh filename="package://my_robot_description/meshes/Suspension_6.STL"/>
      </geometry>
      <material name="">
        <color rgba="0.79216 0.81961 0.93333 1"/>
      </material>
    </visual>
    <collision>
      <origin rpy="0 0 0" xyz="0 0 0"/>
      <geometry>
        <mesh filename="package://my_robot_description/meshes/Suspension_6.STL"/>
      </geometry>
    </collision>
  </link>
  <!-- Prismatic Joint (Base Link to Suspension) -->
  <joint name="base_Suspension_6_joint" type="prismatic">
    <origin rpy=" 0 0 0 " xyz="-0.36934 0.45 -0.225"/>
    <parent link="base_link"/>
    <child link="Suspension_6"/>
    <axis xyz="0 0 1"/>
    <limit effort="1000000000000.0" lower="-10.0" upper="10.0" velocity="0.0"/>
    <dynamics damping="100.0" friction="1000000000000.0"/>
  </joint>
  <gazebo reference="base_Suspension_6_joint">
    <implicitSpringDamper>true</implicitSpringDamper>
    <springStiffness>[number redacted]</springStiffness>
    <springReference>0.0</springReference>
  </gazebo>
  <link name="Wheel_6">
    <!-- Inertial, visual, and collision properties -->
    <inertial>
      <origin rpy="0 0 0" xyz="0 0.17637 0"/>
      <mass value="5.205463824313"/>
      <inertia ixx="3.66317923670982" ixy="0" ixz="0" iyy="3.66317923670982" iyz="0" izz="5.43484629444829"/>
    </inertial>
    <visual>
      <origin rpy="1.5707963267948966 0 0" xyz="0 0 0"/>
      <geometry>
        <cylinder length="0.30" radius="0.298"/>
      </geometry>
      <!-- <geometry> <mesh filename="$(find j8_xacro_model)/meshes/${name}.STL"/>
        </geometry>-->
      <material name="">
        <color rgba="0.792156862745098 0.819607843137255 0.933333333333333 1"/>
      </material>
    </visual>
    <collision>
      <origin rpy="1.5707963267948966 0 0" xyz="0 0 0"/>
      <geometry>
        <cylinder length="0.30" radius="0.298"/>
      </geometry>
      <!-- <geometry>
          <mesh filename="$(find j8_xacro_model)/meshes/${name}.STL"/>
        </geometry>-->
    </collision>
  </link>
  <gazebo reference="Wheel_6">
    <visual>
      <material>
        <ambient>0.0 0.0 0.0 1.0</ambient>
        <diffuse>0.0 0.0 0.0 1.0</diffuse>
        <specular>0.0 0.0 0.0 1.0</specular>
        <emissive>0 0 0 0</emissive>
      </material>
    </visual>
    <preserveFixedJoint>true</preserveFixedJoint>
    <!-- Also preserve joint if has a fixed joint -->
  </gazebo>
  <gazebo reference="Wheel_6">
    <kp>100000000000000.0</kp>
    <kd>0.8</kd>
    <mu>0.25</mu>
    <mu2>0.25</mu2>
    <fdir1> 1 0 0</fdir1>
  </gazebo>
  <joint name="Suspension_6_Wheel_6_joint" type="continuous">
    <origin rpy="0 0 0" xyz="0.0 0.18 0.0"/>
    <parent link="Suspension_6"/>
    <child link="Wheel_6"/>
    <axis xyz="0 1 0"/>
  </joint>
  <gazebo reference="Suspension_6_Wheel_6_joint">

    </gazebo>
  <!-- Suspension Link -->
  <link name="Suspension_7">
    <inertial>
      <origin rpy="0 0 0" xyz="4.4409E-16 -0.005 2.2204E-16"/>
      <mass value="10.0"/>
      <inertia ixx="5.0" ixy="8.0515E-20" ixz="0" iyy="5.0" iyz="1.9328E-19" izz="5.0"/>
    </inertial>
    <visual>
      <origin rpy="0 0 0" xyz="0 0 0"/>
      <geometry>
        <mesh filename="package://my_robot_description/meshes/Suspension_7.STL"/>
      </geometry>
      <material name="">
        <color rgba="0.79216 0.81961 0.93333 1"/>
      </material>
    </visual>
    <collision>
      <origin rpy="0 0 0" xyz="0 0 0"/>
      <geometry>
        <mesh filename="package://my_robot_description/meshes/Suspension_7.STL"/>
      </geometry>
    </collision>
  </link>
  <!-- Prismatic Joint (Base Link to Suspension) -->
  <joint name="base_Suspension_7_joint" type="prismatic">
    <origin rpy=" 0 0 0 " xyz="0.32066 0.45 -0.225"/>
    <parent link="base_link"/>
    <child link="Suspension_7"/>
    <axis xyz="0 0 1"/>
    <limit effort="1000000000000.0" lower="-10.0" upper="10.0" velocity="0.0"/>
    <dynamics damping="100.0" friction="1000000000000.0"/>
  </joint>
  <gazebo reference="base_Suspension_7_joint">
    <implicitSpringDamper>true</implicitSpringDamper>
    <springStiffness>[number redacted]</springStiffness>
    <springReference>0.0</springReference>
  </gazebo>
  <link name="Wheel_7">
    <!-- Inertial, visual, and collision properties -->
    <inertial>
      <origin rpy="0 0 0" xyz="0 0.17637 0"/>
      <mass value="5.205463824313"/>
      <inertia ixx="3.66317923670982" ixy="0" ixz="0" iyy="3.66317923670982" iyz="0" izz="5.43484629444829"/>
    </inertial>
    <visual>
      <origin rpy="1.5707963267948966 0 0" xyz="0 0 0"/>
      <geometry>
        <cylinder length="0.30" radius="0.298"/>
      </geometry>
      <!-- <geometry> <mesh filename="$(find j8_xacro_model)/meshes/${name}.STL"/>
        </geometry>-->
      <material name="">
        <color rgba="0.792156862745098 0.819607843137255 0.933333333333333 1"/>
      </material>
    </visual>
    <collision>
      <origin rpy="1.5707963267948966 0 0" xyz="0 0 0"/>
      <geometry>
        <cylinder length="0.30" radius="0.298"/>
      </geometry>
      <!-- <geometry>
          <mesh filename="$(find j8_xacro_model)/meshes/${name}.STL"/>
        </geometry>-->
    </collision>
  </link>
  <gazebo reference="Wheel_7">
    <visual>
      <material>
        <ambient>0.0 0.0 0.0 1.0</ambient>
        <diffuse>0.0 0.0 0.0 1.0</diffuse>
        <specular>0.0 0.0 0.0 1.0</specular>
        <emissive>0 0 0 0</emissive>
      </material>
    </visual>
    <preserveFixedJoint>true</preserveFixedJoint>
    <!-- Also preserve joint if has a fixed joint -->
  </gazebo>
  <gazebo reference="Wheel_7">
    <kp>100000000000000.0</kp>
    <kd>0.8</kd>
    <mu>0.25</mu>
    <mu2>0.25</mu2>
    <fdir1> 1 0 0</fdir1>
  </gazebo>
  <joint name="Suspension_7_Wheel_7_joint" type="continuous">
    <origin rpy="0 0 0" xyz="0.0 0.18 0.0"/>
    <parent link="Suspension_7"/>
    <child link="Wheel_7"/>
    <axis xyz="0 1 0"/>
  </joint>
  <gazebo reference="Suspension_7_Wheel_7_joint">

    </gazebo>
  <!-- Suspension Link -->
  <link name="Suspension_8">
    <inertial>
      <origin rpy="0 0 0" xyz="4.4409E-16 -0.005 2.2204E-16"/>
      <mass value="10.0"/>
      <inertia ixx="5.0" ixy="8.0515E-20" ixz="0" iyy="5.0" iyz="1.9328E-19" izz="5.0"/>
    </inertial>
    <visual>
      <origin rpy="0 0 0" xyz="0 0 0"/>
      <geometry>
        <mesh filename="package://my_robot_description/meshes/Suspension_8.STL"/>
      </geometry>
      <material name="">
        <color rgba="0.79216 0.81961 0.93333 1"/>
      </material>
    </visual>
    <collision>
      <origin rpy="0 0 0" xyz="0 0 0"/>
      <geometry>
        <mesh filename="package://my_robot_description/meshes/Suspension_8.STL"/>
      </geometry>
    </collision>
  </link>
  <!-- Prismatic Joint (Base Link to Suspension) -->
  <joint name="base_Suspension_8_joint" type="prismatic">
    <origin rpy=" 0 0 0 " xyz="1.0107 0.45 -0.225"/>
    <parent link="base_link"/>
    <child link="Suspension_8"/>
    <axis xyz="0 0 1"/>
    <limit effort="1000000000000.0" lower="-10.0" upper="10.0" velocity="0.0"/>
    <dynamics damping="100.0" friction="1000000000000.0"/>
  </joint>
  <gazebo reference="base_Suspension_8_joint">
    <implicitSpringDamper>true</implicitSpringDamper>
    <springStiffness>[number redacted]</springStiffness>
    <springReference>0.0</springReference>
  </gazebo>
  <link name="Wheel_8">
    <!-- Inertial, visual, and collision properties -->
    <inertial>
      <origin rpy="0 0 0" xyz="0 0.17637 0"/>
      <mass value="5.205463824313"/>
      <inertia ixx="3.66317923670982" ixy="0" ixz="0" iyy="3.66317923670982" iyz="0" izz="5.43484629444829"/>
    </inertial>
    <visual>
      <origin rpy="1.5707963267948966 0 0" xyz="0 0 0"/>
      <geometry>
        <cylinder length="0.30" radius="0.298"/>
      </geometry>
      <!-- <geometry> <mesh filename="$(find j8_xacro_model)/meshes/${name}.STL"/>
        </geometry>-->
      <material name="">
        <color rgba="0.792156862745098 0.819607843137255 0.933333333333333 1"/>
      </material>
    </visual>
    <collision>
      <origin rpy="1.5707963267948966 0 0" xyz="0 0 0"/>
      <geometry>
        <cylinder length="0.30" radius="0.298"/>
      </geometry>
      <!-- <geometry>
          <mesh filename="$(find j8_xacro_model)/meshes/${name}.STL"/>
        </geometry>-->
    </collision>
  </link>
  <gazebo reference="Wheel_8">
    <visual>
      <material>
        <ambient>0.0 0.0 0.0 1.0</ambient>
        <diffuse>0.0 0.0 0.0 1.0</diffuse>
        <specular>0.0 0.0 0.0 1.0</specular>
        <emissive>0 0 0 0</emissive>
      </material>
    </visual>
    <preserveFixedJoint>true</preserveFixedJoint>
    <!-- Also preserve joint if has a fixed joint -->
  </gazebo>
  <gazebo reference="Wheel_8">
    <kp>100000000000000.0</kp>
    <kd>0.8</kd>
    <mu>0.25</mu>
    <mu2>0.25</mu2>
    <fdir1> 1 0 0</fdir1>
  </gazebo>
  <joint name="Suspension_8_Wheel_8_joint" type="continuous">
    <origin rpy="0 0 0" xyz="0.0 0.18 0.0"/>
    <parent link="Suspension_8"/>
    <child link="Wheel_8"/>
    <axis xyz="0 1 0"/>
  </joint>
  <gazebo reference="Suspension_8_Wheel_8_joint">

    </gazebo>
  <link name="Fixposion_base">
    <inertial>
      <origin rpy="0 0 0" xyz="-0.20204 0.0024993 0.014284"/>
      <mass value="0.33336"/>
      <inertia ixx="0.00093999" ixy="-5.8116E-11" ixz="1.8511E-08" iyy="0.0045678" iyz="-1.727E-08" izz="0.0036292"/>
    </inertial>
    <visual>
      <origin rpy="0 0 0" xyz="0 0 0"/>
      <geometry>
        <mesh filename="package://my_robot_description/meshes/Fixposion_base.STL"/>
      </geometry>
      <material name="">
        <color rgba="0.25098 0.25098 0.25098 0.2"/>
      </material>
    </visual>
    <collision>
      <origin rpy="0 0 0" xyz="0 0 0"/>
      <geometry>
        <mesh filename="package://my_robot_description/meshes/Fixposion_base.STL"/>
      </geometry>
    </collision>
  </link>
  <gazebo reference="Fixposion_base">
    <visual>
      <material>
        <ambient>0.0 0.0 0.0 1.0</ambient>
        <diffuse>0.0 0.0 0.0 1.0</diffuse>
        <specular>0.0 0.0 0.0 1.0</specular>
        <emissive>0 0 0 0</emissive>
      </material>
    </visual>
    <preserveFixedJoint>true</preserveFixedJoint>
    <!-- Also preserve joint if has a fixed joint -->
  </gazebo>
  <!-- Black-->
  <joint name="Bridge_fixposion_base_joint" type="fixed">
    <origin rpy="1.5708 0 1.5708" xyz="-0.0028148 -0.11697 0.21171"/>
    <parent link="Bridge"/>
    <child link="Fixposion_base"/>
    <axis xyz="0 0 0"/>
  </joint>
  <link name="Left_fixposition_feet">
    <inertial>
      <origin rpy="0 0 0" xyz="0.034556 0.032987 2.2204E-16"/>
      <mass value="0.079938"/>
      <inertia ixx="6.1363E-05" ixy="-7.2002E-06" ixz="6.4262E-21" iyy="2.1739E-05" iyz="-2.7645E-20" izz="5.4705E-05"/>
    </inertial>
    <visual>
      <origin rpy="0 0 0" xyz="0 0 0"/>
      <geometry>
        <mesh filename="package://my_robot_description/meshes/Left_fixposition_feet.STL"/>
      </geometry>
      <material name="">
        <color rgba="0.64706 0.92549 0.90196 1"/>
      </material>
    </visual>
    <collision>
      <origin rpy="0 0 0" xyz="0 0 0"/>
      <geometry>
        <mesh filename="package://my_robot_description/meshes/Left_fixposition_feet.STL"/>
      </geometry>
    </collision>
  </link>
  <gazebo reference="Left_fixposition_feet">
    <visual>
      <material>
        <ambient>0.2941 0.3255 0.1255 1.0</ambient>
        <diffuse>0.2941 0.3255 0.1255 1.0</diffuse>
        <specular>0.2941 0.3255 0.1255 1.0</specular>
        <emissive>0 0 0 0</emissive>
      </material>
    </visual>
    <preserveFixedJoint>true</preserveFixedJoint>
    <!-- Also preserve joint if has a fixed joint -->
  </gazebo>
  <!-- Military Green -->
  <joint name="Left_fixposition_feet_joint" type="fixed">
    <origin rpy="3.1416 0 3.1416" xyz="-0.060832 0.005 0.052821"/>
    <parent link="Fixposion_base"/>
    <child link="Left_fixposition_feet"/>
    <axis xyz="0 0 0"/>
  </joint>
  <link name="Left_fixposition_holder">
    <inertial>
      <origin rpy="0 0 0" xyz="9.6982E-09 0.016739 0.01561"/>
      <mass value="0.010272"/>
      <inertia ixx="9.9327E-07" ixy="2.2546E-12" ixz="-6.9048E-13" iyy="1.0096E-06" iyz="-6.4195E-12" izz="1.5191E-06"/>
    </inertial>
    <visual>
      <origin rpy="0 0 0" xyz="0 0 0"/>
      <geometry>
        <mesh filename="package://my_robot_description/meshes/Left_fixposition_holder.STL"/>
      </geometry>
      <material name="">
        <color rgba="0.79216 0.81961 0.93333 1"/>
      </material>
    </visual>
    <collision>
      <origin rpy="0 0 0" xyz="0 0 0"/>
      <geometry>
        <mesh filename="package://my_robot_description/meshes/Left_fixposition_holder.STL"/>
      </geometry>
    </collision>
  </link>
  <gazebo reference="Left_fixposition_holder">
    <visual>
      <material>
        <ambient>0.0 0.0 0.0 1.0</ambient>
        <diffuse>0.0 0.0 0.0 1.0</diffuse>
        <specular>0.0 0.0 0.0 1.0</specular>
        <emissive>0 0 0 0</emissive>
      </material>
    </visual>
    <preserveFixedJoint>true</preserveFixedJoint>
    <!-- Also preserve joint if has a fixed joint -->
  </gazebo>
  <!-- Black -->
  <joint name="Left_fixposition_holder_joint" type="fixed">
    <origin rpy="0 1.5708 0" xyz="0.022601 0.078 0.00025"/>
    <parent link="Left_fixposition_feet"/>
    <child link="Left_fixposition_holder"/>
    <axis xyz="0 0 0"/>
  </joint>
  <link name="Central_fixposition_feet">
    <inertial>
      <origin rpy="0 0 0" xyz="-0.0036553 0.032987 0.02961"/>
      <mass value="0.079938"/>
      <inertia ixx="6.1363E-05" ixy="-7.2002E-06" ixz="-2.22E-19" iyy="2.1739E-05" iyz="2.8819E-19" izz="5.4705E-05"/>
    </inertial>
    <visual>
      <origin rpy="0 0 0" xyz="0 0 0"/>
      <geometry>
        <mesh filename="package://my_robot_description/meshes/Central_fixposition_feet.STL"/>
      </geometry>
      <material name="">
        <color rgba="0.64706 0.92549 0.90196 1"/>
      </material>
    </visual>
    <collision>
      <origin rpy="0 0 0" xyz="0 0 0"/>
      <geometry>
        <mesh filename="package://my_robot_description/meshes/Central_fixposition_feet.STL"/>
      </geometry>
    </collision>
  </link>
  <gazebo reference="Central_fixposition_feet">
    <visual>
      <material>
        <ambient>0.2941 0.3255 0.1255 1.0</ambient>
        <diffuse>0.2941 0.3255 0.1255 1.0</diffuse>
        <specular>0.2941 0.3255 0.1255 1.0</specular>
        <emissive>0 0 0 0</emissive>
      </material>
    </visual>
    <preserveFixedJoint>true</preserveFixedJoint>
    <!-- Also preserve joint if has a fixed joint -->
  </gazebo>
  <!-- Military Green -->
  <joint name="Central_fixposition_feet_joint" type="fixed">
    <origin rpy="0.0 -1.5708 0" xyz="-0.17218 0.005 -0.013029"/>
    <parent link="Fixposion_base"/>
    <child link="Central_fixposition_feet"/>
    <axis xyz="0 0 0"/>
  </joint>
  <link name="Central_fixposition_holder">
    <inertial>
      <origin rpy="0 0 0" xyz="-0.02161 0.016739 -3.809E-08"/>
      <mass value="0.010272"/>
      <inertia ixx="9.9327E-07" ixy="2.2546E-12" ixz="-6.9048E-13" iyy="1.0096E-06" iyz="-6.4195E-12" izz="1.5191E-06"/>
    </inertial>
    <visual>
      <origin rpy="0 0 0" xyz="0 0 0"/>
      <geometry>
        <mesh filename="package://my_robot_description/meshes/Central_fixposition_holder.STL"/>
      </geometry>
      <material name="">
        <color rgba="0.79216 0.81961 0.93333 1"/>
      </material>
    </visual>
    <collision>
      <origin rpy="0 0 0" xyz="0 0 0"/>
      <geometry>
        <mesh filename="package://my_robot_description/meshes/Central_fixposition_holder.STL"/>
      </geometry>
    </collision>
  </link>
  <gazebo reference="Central_fixposition_holder">
    <visual>
      <material>
        <ambient>0.2941 0.3255 0.1255 1.0</ambient>
        <diffuse>0.2941 0.3255 0.1255 1.0</diffuse>
        <specular>0.2941 0.3255 0.1255 1.0</specular>
        <emissive>0 0 0 0</emissive>
      </material>
    </visual>
    <preserveFixedJoint>true</preserveFixedJoint>
    <!-- Also preserve joint if has a fixed joint -->
  </gazebo>
  <!-- Black -->
  <joint name="Central_fixposition_holder_joint" type="fixed">
    <origin rpy="0 1.5708 0" xyz="0 0.078 0.00825"/>
    <parent link="Central_fixposition_feet"/>
    <child link="Central_fixposition_holder"/>
    <axis xyz="0 0 0"/>
  </joint>
  <link name="Right_fixposition_feet">
    <inertial>
      <origin rpy="0 0 0" xyz="-0.021265 0.032987 -3.3307E-16"/>
      <mass value="0.079938"/>
      <inertia ixx="6.1363E-05" ixy="-7.2002E-06" ixz="3.2408E-21" iyy="2.1739E-05" iyz="-1.2404E-20" izz="5.4705E-05"/>
    </inertial>
    <visual>
      <origin rpy="0 0 0" xyz="0 0 0"/>
      <geometry>
        <mesh filename="package://my_robot_description/meshes/Right_fixposition_feet.STL"/>
      </geometry>
      <material name="">
        <color rgba="0.64706 0.92549 0.90196 1"/>
      </material>
    </visual>
    <collision>
      <origin rpy="0 0 0" xyz="0 0 0"/>
      <geometry>
        <mesh filename="package://my_robot_description/meshes/Right_fixposition_feet.STL"/>
      </geometry>
    </collision>
  </link>
  <gazebo reference="Right_fixposition_feet">
    <visual>
      <material>
        <ambient>0.2941 0.3255 0.1255 1.0</ambient>
        <diffuse>0.2941 0.3255 0.1255 1.0</diffuse>
        <specular>0.2941 0.3255 0.1255 1.0</specular>
        <emissive>0 0 0 0</emissive>
      </material>
    </visual>
    <preserveFixedJoint>true</preserveFixedJoint>
    <!-- Also preserve joint if has a fixed joint -->
  </gazebo>
  <!-- Black -->
  <joint name="Right_fixposition_feet_joint" type="fixed">
    <origin rpy="0 0 0" xyz="-0.28743 0.005 0.052321"/>
    <parent link="Fixposion_base"/>
    <child link="Right_fixposition_feet"/>
    <axis xyz="0 0 0"/>
  </joint>
  <link name="Right_fixposition_holder">
    <inertial>
      <origin rpy="0 0 0" xyz="9.6982E-09 0.016739 -0.01561"/>
      <mass value="0.010272"/>
      <inertia ixx="9.9327E-07" ixy="2.2546E-12" ixz="-6.9048E-13" iyy="1.0096E-06" iyz="-6.4195E-12" izz="1.5191E-06"/>
    </inertial>
    <visual>
      <origin rpy="0 0 0" xyz="0 0 0"/>
      <geometry>
        <mesh filename="package://my_robot_description/meshes/Right_fixposition_holder.STL"/>
      </geometry>
      <material name="">
        <color rgba="0.79216 0.81961 0.93333 1"/>
      </material>
    </visual>
    <collision>
      <origin rpy="0 0 0" xyz="0 0 0"/>
      <geometry>
        <mesh filename="package://my_robot_description/meshes/Right_fixposition_holder.STL"/>
      </geometry>
    </collision>
  </link>
  <gazebo reference="Right_fixposition_holder">
    <visual>
      <material>
        <ambient>0.0 0.0 0.0 1.0</ambient>
        <diffuse>0.0 0.0 0.0 1.0</diffuse>
        <specular>0.0 0.0 0.0 1.0</specular>
        <emissive>0 0 0 0</emissive>
      </material>
    </visual>
    <preserveFixedJoint>true</preserveFixedJoint>
    <!-- Also preserve joint if has a fixed joint -->
  </gazebo>
  <!-- Black -->
  <joint name="Right_fixposition_holder_holder" type="fixed">
    <origin rpy="0 1.5708 0" xyz="-0.002 0.078 0.00025"/>
    <parent link="Right_fixposition_feet"/>
    <child link="Right_fixposition_holder"/>
    <axis xyz="0 0 0"/>
  </joint>
  <!-- Fixposition sensor
  <xacro:fixposition_sensor parent="Bridge" xyz="-0.0028148 -0.11697 0.21171" rpy="1.5708 0 1.5708"/>-->
</robot>
